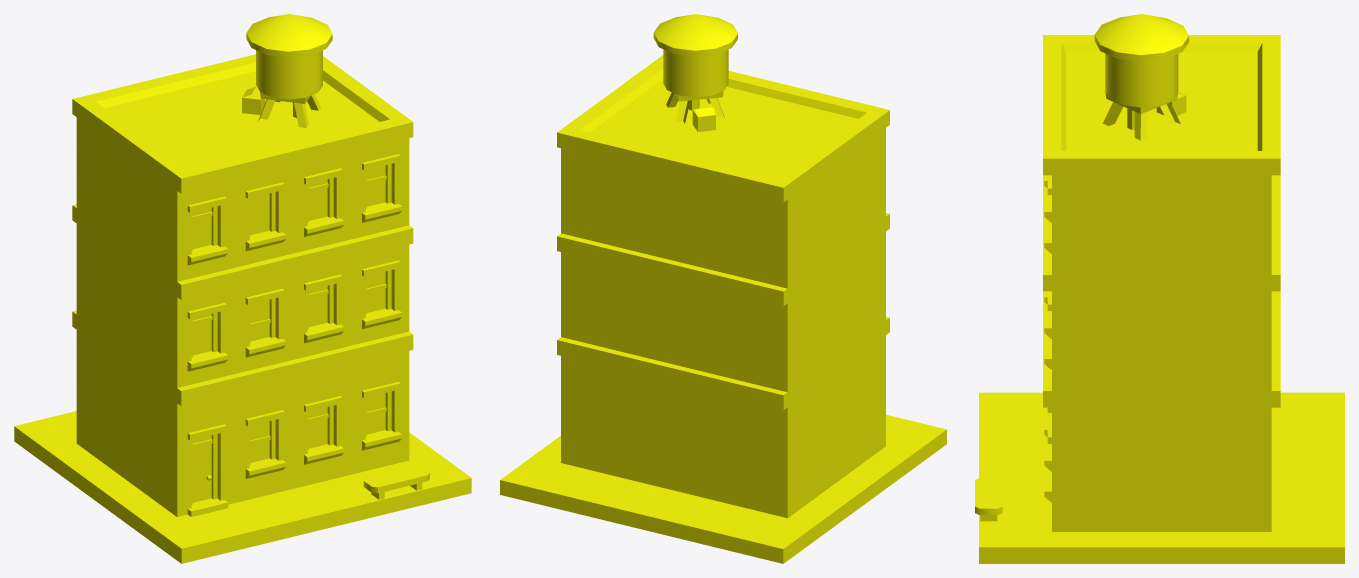
Rendered from kaykit-building-d.glb.
3 renders of one model, left to right at view 1: azimuth 30°, elevation 25°; view 2: azimuth 150°, elevation 25°; view 3: azimuth 270°, elevation 25°, orthographic. The views are drawn at different scales.
Visible parts, largest first — view 1: building_D; view 2: building_D; view 3: building_D.
Boxes of the visible parts, bbox=[...] form: building_D: bbox=[14, 14, 471, 563]; building_D: bbox=[500, 14, 946, 563]; building_D: bbox=[975, 14, 1344, 563].
Size of the model in its own units: 2 by 2.97 by 2.02.
